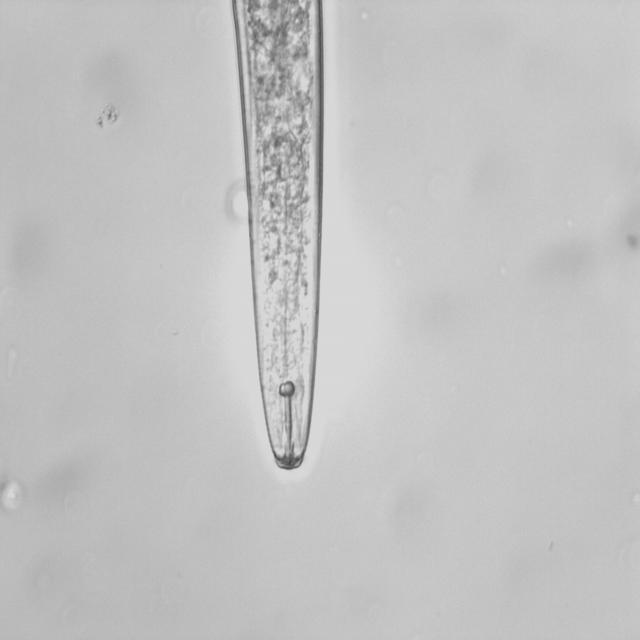Pratylenchus: (216, 0, 335, 490)
